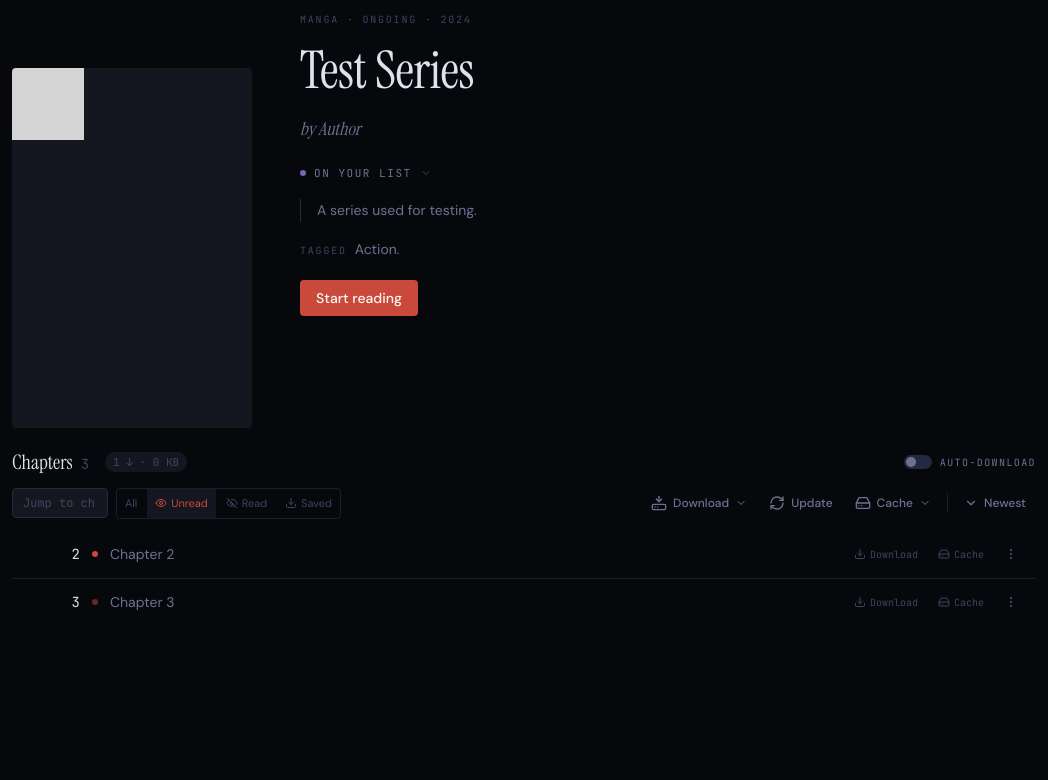
Test: SeriesView › queues an update for only the current manga
Expected: the heading "Test Series" is shown, [300,37,474,104]
Click the button with aria-label "Update this manga".
click(801, 503)  # box [759,489,843,517]
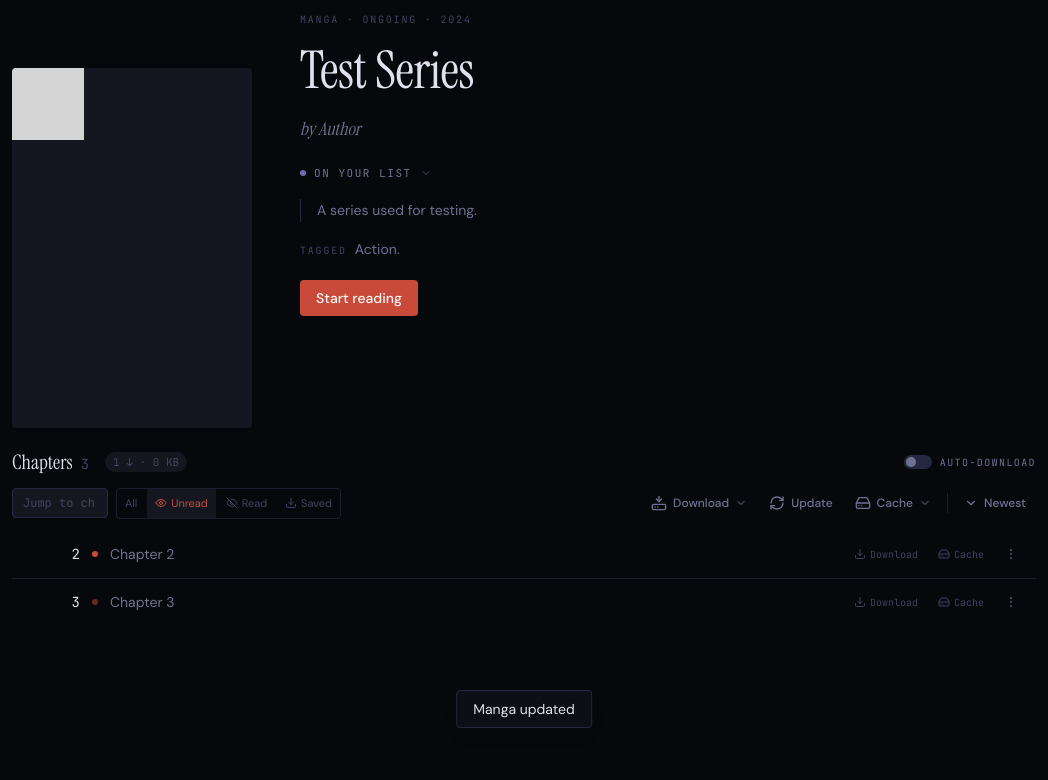
Now the text "Manga updated" is shown, box [456,690,592,728]
